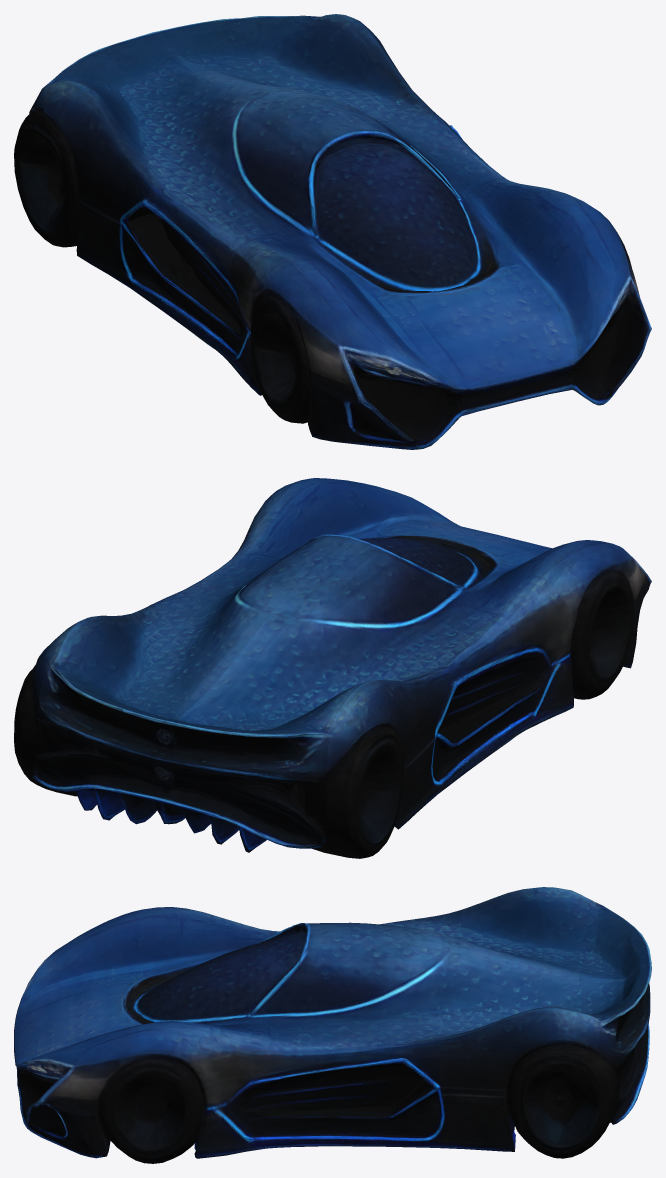
File: deathsled.glb
The picture shows the model from 3 angles, top to bottom: view 1: azimuth 30°, elevation 25°; view 2: azimuth 150°, elevation 25°; view 3: azimuth 270°, elevation 25°; orthographic projection. The views are drawn at different scales.
Parts seen in each view (by area): view 1: geometry_0; view 2: geometry_0; view 3: geometry_0.
Part boxes in pixels (x1,y1,x2,y2): geometry_0: (14,14,651,449); geometry_0: (14,478,651,858); geometry_0: (14,887,651,1163).
Bounding box in the file's own units: 0.549 × 0.2902 × 0.9965.
1 material, 1 textured.
